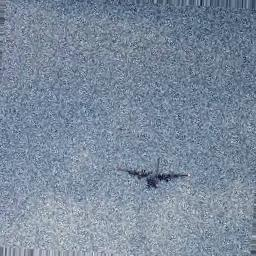Airplane: (122, 160, 191, 188)
